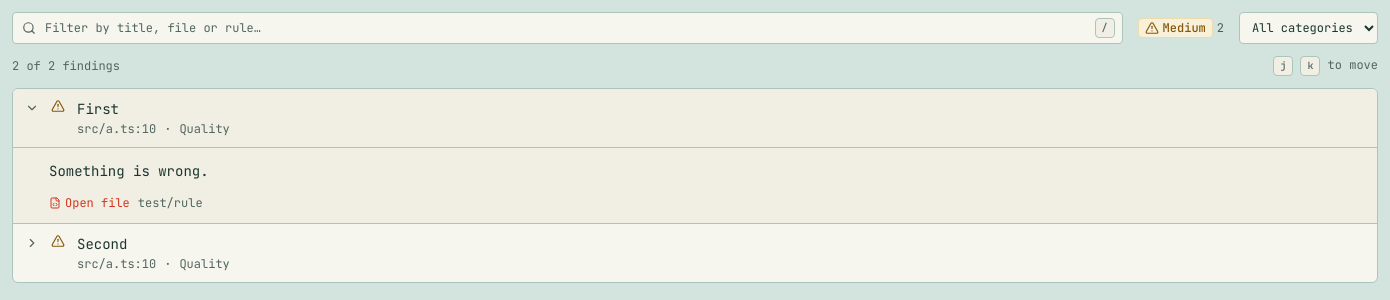
Test: FindingsPanel › expands a finding to reveal its detail
Click the button "Second src/a.ts:10 · Quality": (72,246) [13,224,1377,282]
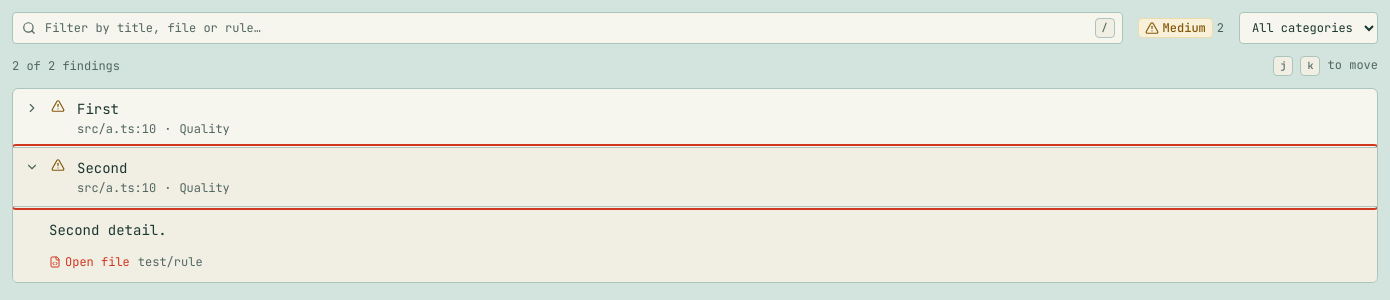
Check: the button "Second src/a.ts:10 · Quality" is expanded, box [13,148,1377,206]
Check: the text "Second detail." is shown, box [49,221,167,239]
